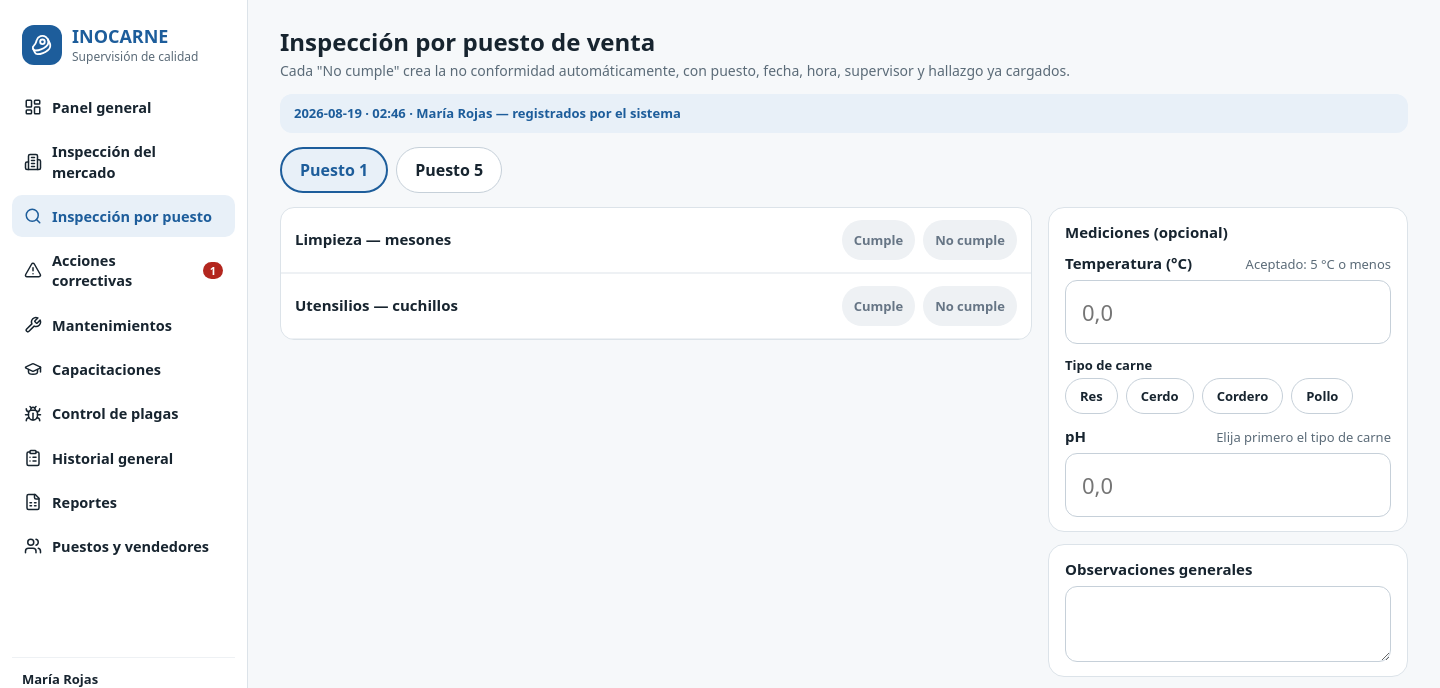
Test case: inspección por puesto › marcar "No cumple" abre el campo del hallazgo
Step 1. Click the button "No cumple" in the row of "Limpieza — mesones" → coordinates (970, 240), box [923,220,1017,260]
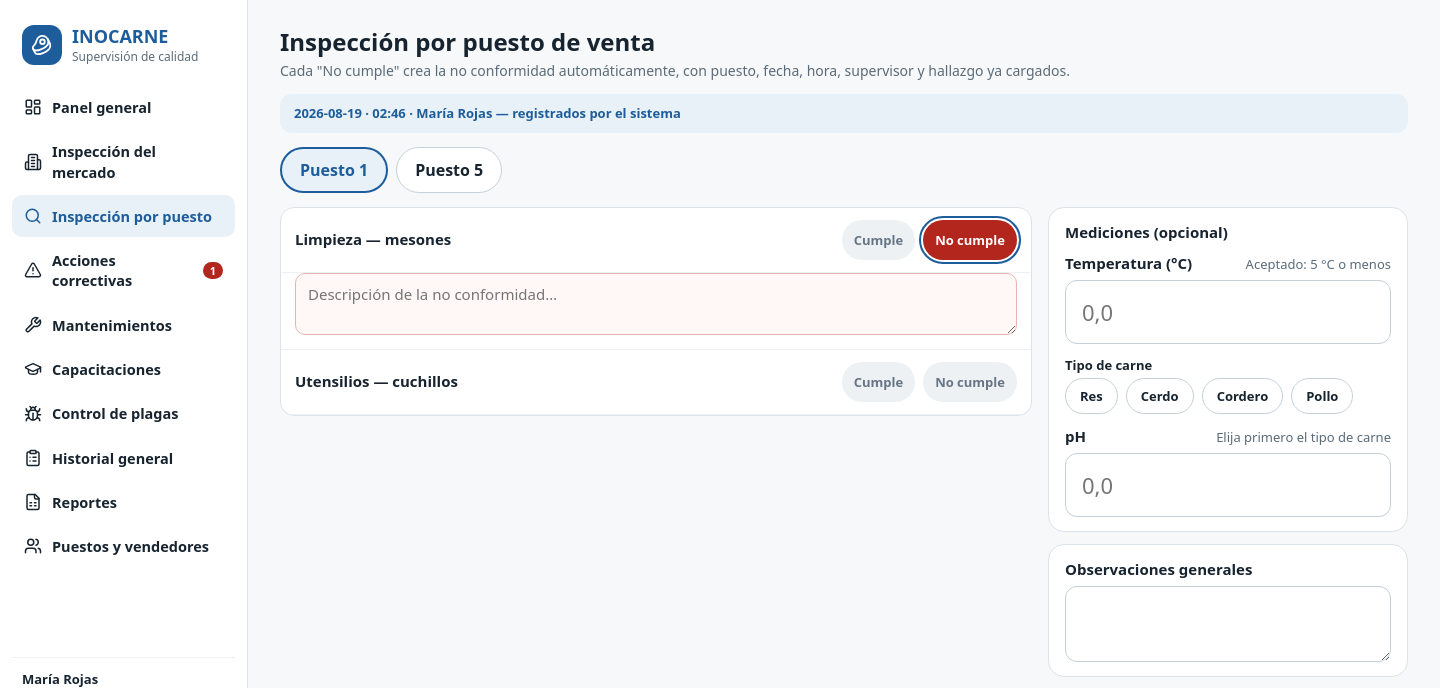
Expected: the text box labelled "Descripción de la no conformidad" is shown, [295,273,1017,335]
